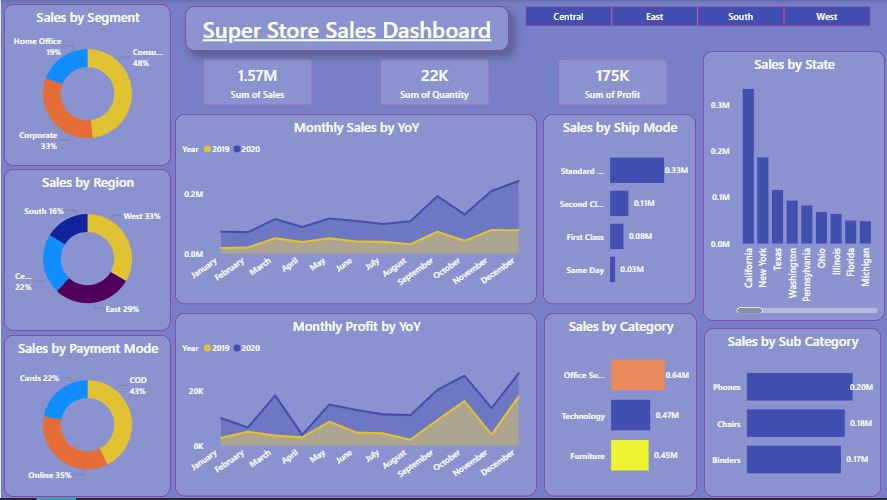

Layout of this report page (visuals, bound fields, positions):
{"tool":"powerbi","page":{"name":"Page 1","canvas":[1280,720],"ordinal":0},"visuals":[{"type":"clusteredBarChart","title":"Sales by Category","fields":{"Category":["Sheet1.Category"],"Y":["Sum(Sheet1.Sales)"]},"box":[785.1,452.5,221.2,264.6],"z":0},{"type":"clusteredBarChart","title":"Sales by Sub Category","fields":{"Y":["Sum(Sheet1.Sales)"],"Category":["Sheet1.Sub-Category"]},"box":[1016.4,474.2,255.9,244.3],"z":1000},{"type":"clusteredBarChart","title":"Sales by Ship Mode","fields":{"Y":["Sum(Sheet1.Sales)"],"Category":["Sheet1.Ship Mode"]},"box":[783.6,164.8,221.2,274.7],"z":2000},{"type":"stackedAreaChart","title":"Monthly Sales by YoY","fields":{"Y":["Sum(Sheet1.Sales)"],"Category":["Sheet1.Order Date.Variation.Date Hierarchy.Month","Sheet1.Order Date.Variation.Date Hierarchy.Day"],"Series":["Sheet1.Order Date.Variation.Date Hierarchy.Year"]},"box":[251.6,164.8,523.4,274.7],"z":3000},{"type":"stackedAreaChart","title":"Monthly Profit by YoY","fields":{"Category":["Sheet1.Order Date.Variation.Date Hierarchy.Month","Sheet1.Order Date.Variation.Date Hierarchy.Day"],"Series":["Sheet1.Order Date.Variation.Date Hierarchy.Year"],"Y":["Sum(Sheet1.Profit)"]},"box":[251.6,452.5,523.4,264.6],"z":4000},{"type":"donutChart","title":"Sales by Segment","fields":{"Category":["Sheet1.Segment"],"Y":["Sum(Sheet1.Sales)"]},"box":[4.3,5.8,241.4,234.2],"z":5000},{"type":"donutChart","title":"Sales by Region","fields":{"Y":["Sum(Sheet1.Sales)"],"Category":["Sheet1.Region"]},"box":[4.3,244.3,241.4,234.2],"z":6000},{"type":"donutChart","title":"Sales by Payment Mode","fields":{"Y":["Sum(Sheet1.Sales)"],"Category":["Sheet1.Payment Mode"]},"box":[4.3,484.3,241.4,234.2],"z":7000},{"type":"slicer","fields":{"Values":["Sheet1.Region"]},"box":[733,2.9,546.5,34.7],"z":8000},{"type":"textbox","box":[266,8.7,468.4,65.1],"z":9000},{"type":"card","fields":{"Values":["Sum(Sheet1.Sales)"]},"box":[292,85.3,157.6,66.5],"z":10000},{"type":"card","fields":{"Values":["Sum(Sheet1.Quantity)"]},"box":[548,85.3,157.6,66.5],"z":11000},{"type":"card","fields":{"Values":["Sum(Sheet1.Profit)"]},"box":[805.3,85.3,157.6,66.5],"z":12000},{"type":"columnChart","title":"Sales by State","fields":{"Category":["Sheet1.State"],"Y":["Sum(Sheet1.Sales)"]},"box":[1014.9,73.7,263.1,390.4],"z":13000}]}

Visuals, with their boxes in screenshot pixels (x1, y1, x2, y2), scaled from the page's 1280x720 canvas onto the 887x500 screenshot:
"Sales by Category" clusteredBarChart: {"left": 544, "top": 314, "right": 697, "bottom": 498}
"Sales by Sub Category" clusteredBarChart: {"left": 704, "top": 329, "right": 882, "bottom": 499}
"Sales by Ship Mode" clusteredBarChart: {"left": 543, "top": 114, "right": 696, "bottom": 305}
"Monthly Sales by YoY" stackedAreaChart: {"left": 174, "top": 114, "right": 537, "bottom": 305}
"Monthly Profit by YoY" stackedAreaChart: {"left": 174, "top": 314, "right": 537, "bottom": 498}
"Sales by Segment" donutChart: {"left": 3, "top": 4, "right": 170, "bottom": 167}
"Sales by Region" donutChart: {"left": 3, "top": 170, "right": 170, "bottom": 332}
"Sales by Payment Mode" donutChart: {"left": 3, "top": 336, "right": 170, "bottom": 499}
slicer - Sheet1.Region: {"left": 508, "top": 2, "right": 886, "bottom": 26}
textbox: {"left": 184, "top": 6, "right": 509, "bottom": 51}
card - Sum(Sheet1.Sales): {"left": 202, "top": 59, "right": 312, "bottom": 105}
card - Sum(Sheet1.Quantity): {"left": 380, "top": 59, "right": 489, "bottom": 105}
card - Sum(Sheet1.Profit): {"left": 558, "top": 59, "right": 667, "bottom": 105}
"Sales by State" columnChart: {"left": 703, "top": 51, "right": 886, "bottom": 322}
